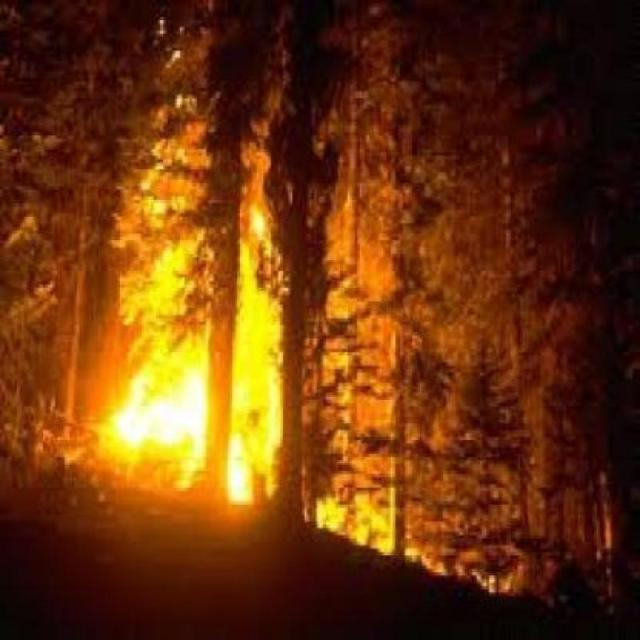Fire: (80, 190, 486, 592)
